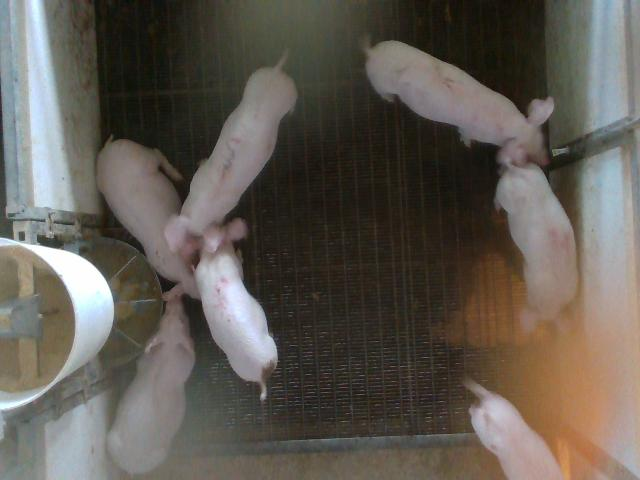pig-3: (165, 58, 298, 249)
pig-4: (495, 164, 578, 331)
pig-5: (195, 219, 278, 399)
